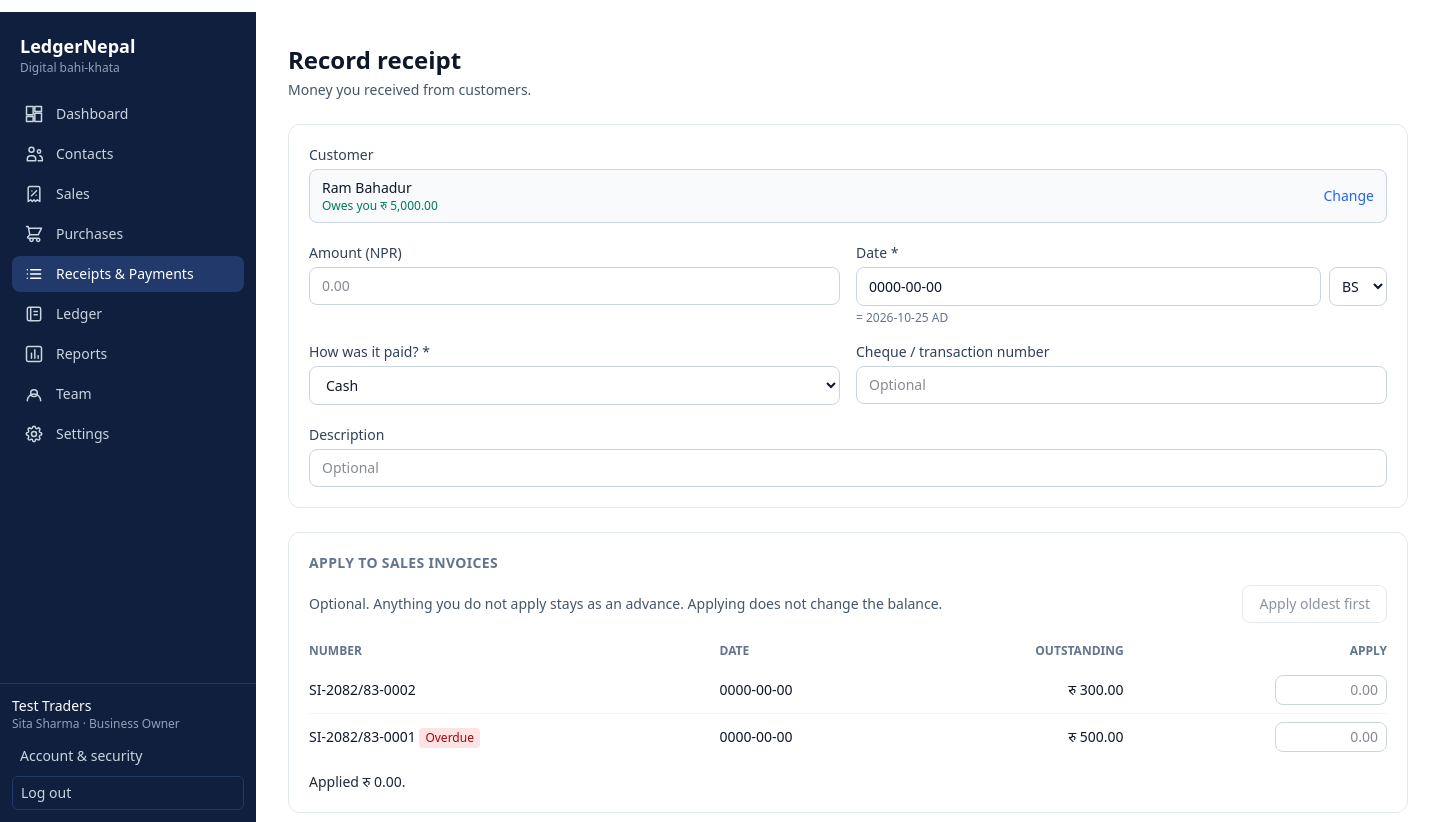
Test: recording a receipt › shows the server’s reason against the document
The width and height of the screenshot is (1440, 822).
In the field labelled "Amount (NPR)": [574, 286] box [309, 267, 840, 305], type "900"
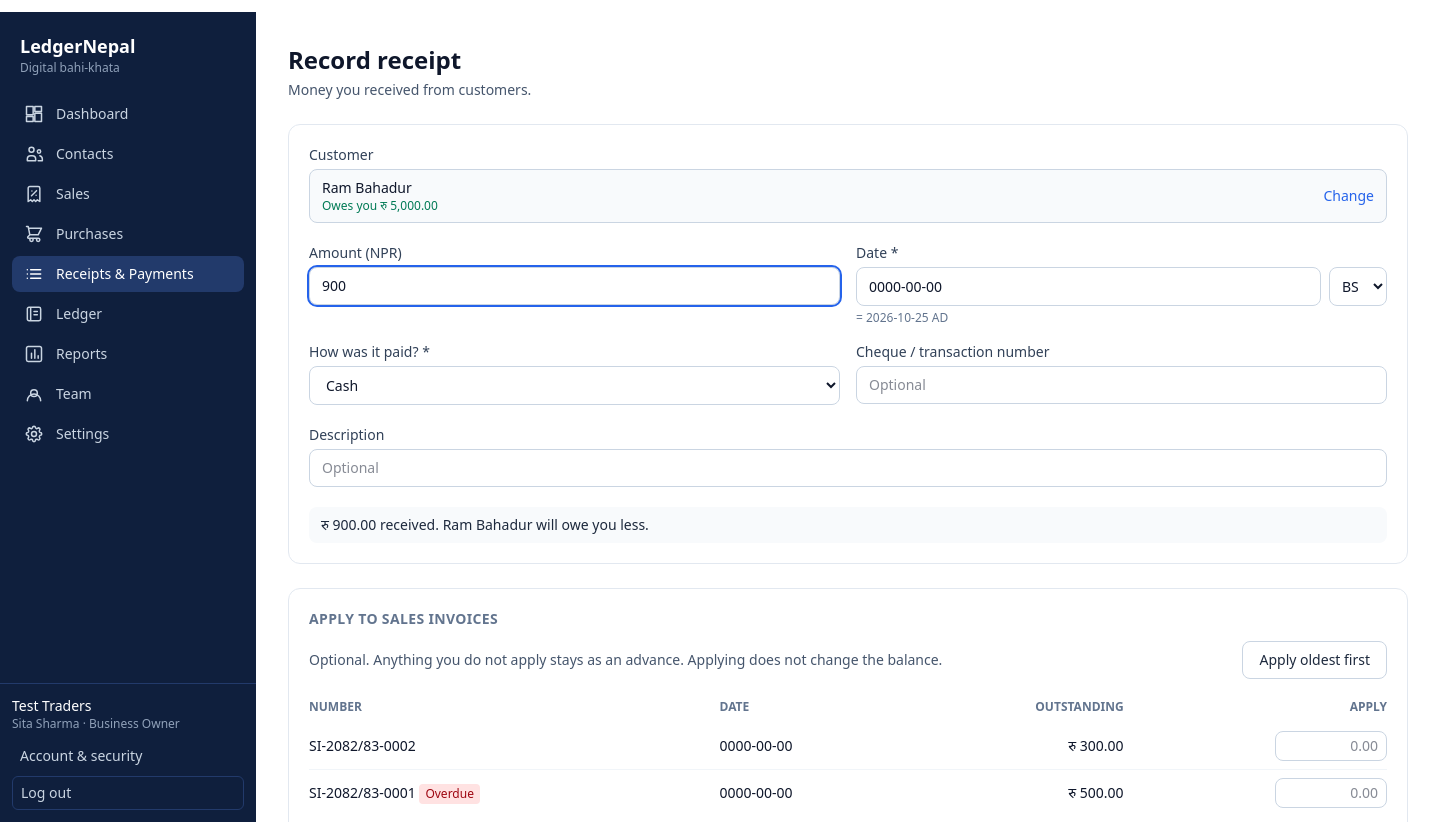
In the field named "Apply to SI-2082/83-0002": [1331, 746] box [1275, 731, 1387, 761], type "300"
(page scrolled)
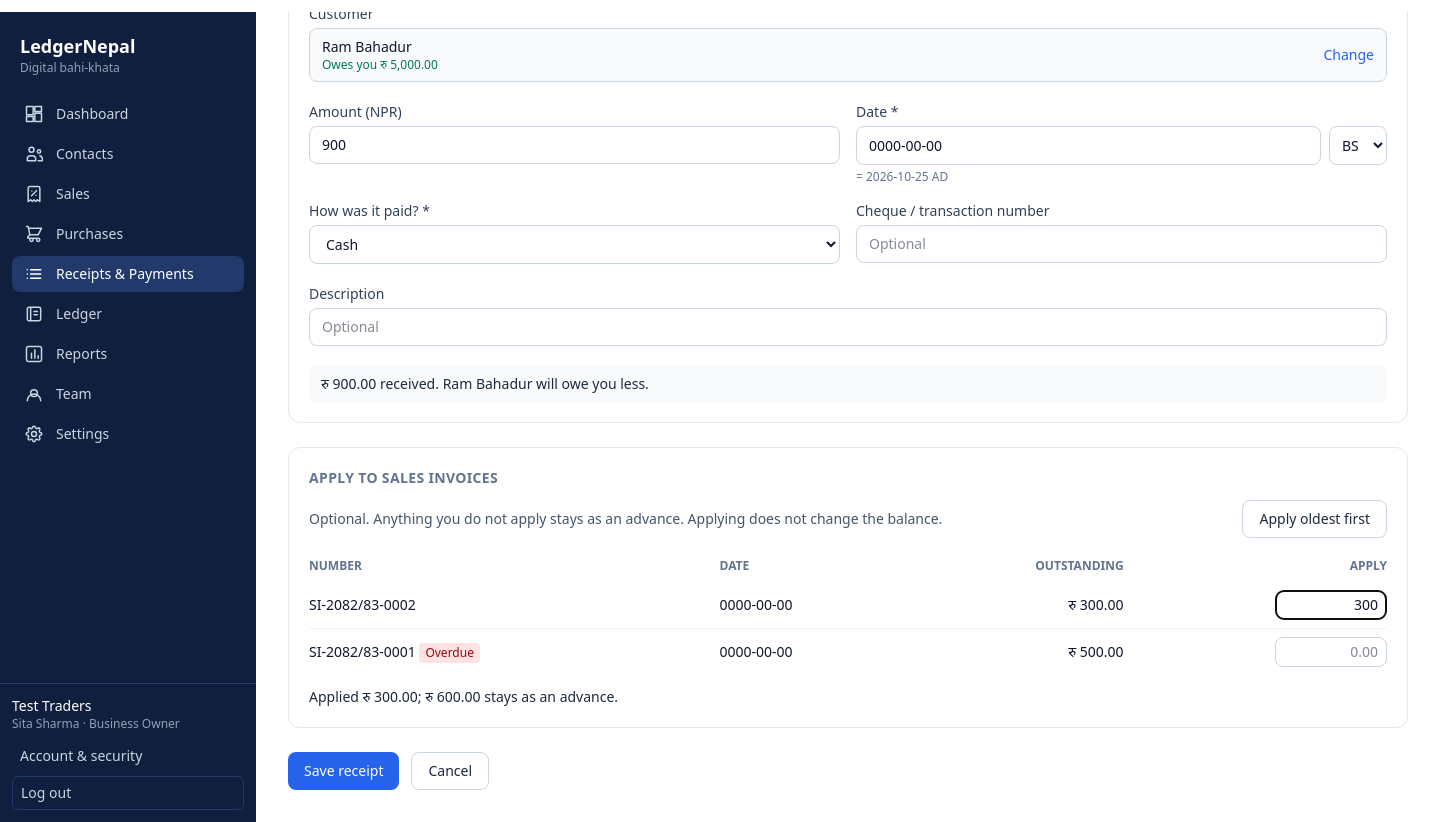
Click the button "Save receipt": [344, 771] box [288, 752, 400, 790]
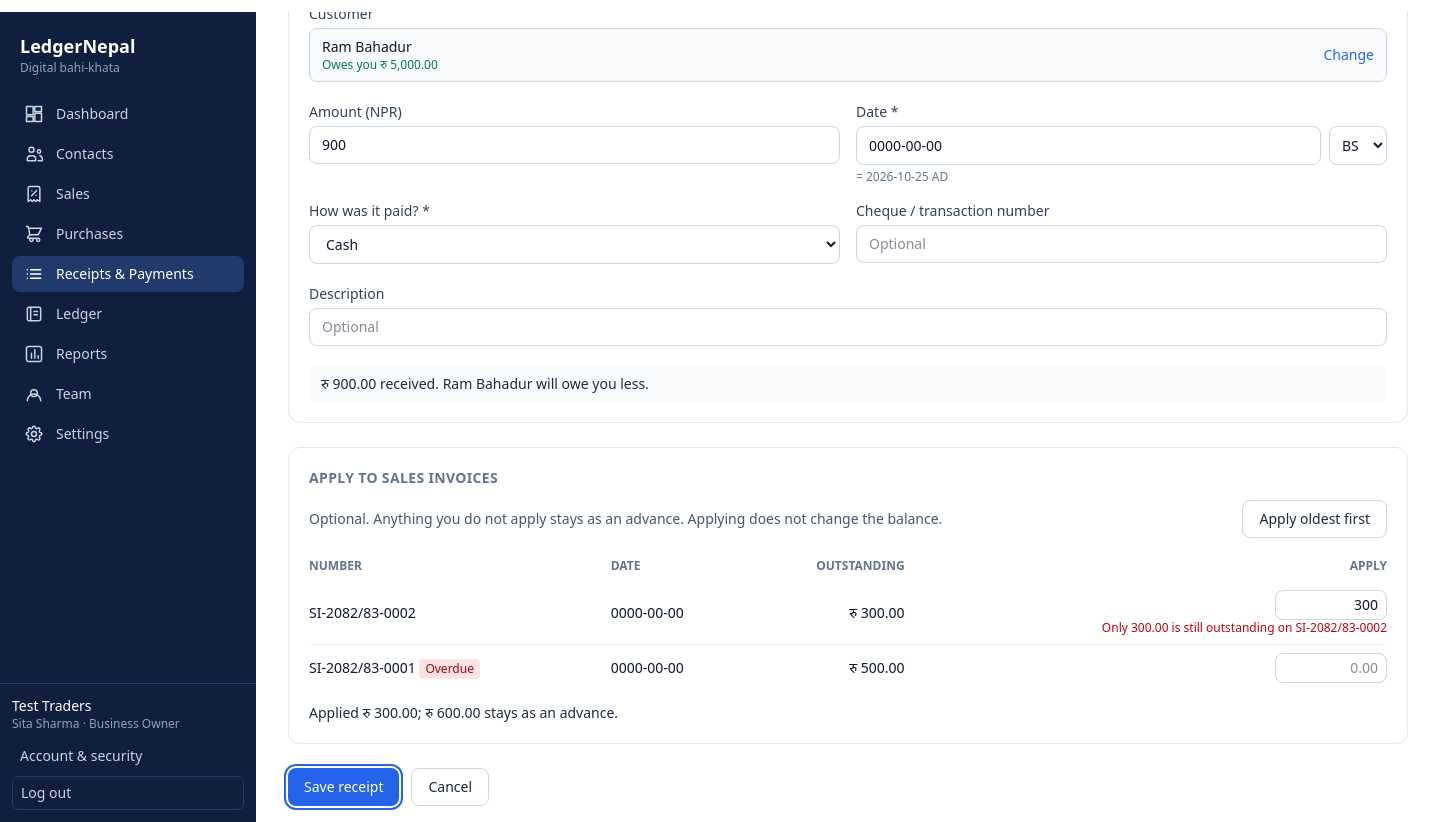
Expected: the text "Only 300.00 is still outstanding on SI-2082/83-0002" is shown, [1102, 619, 1387, 636]
